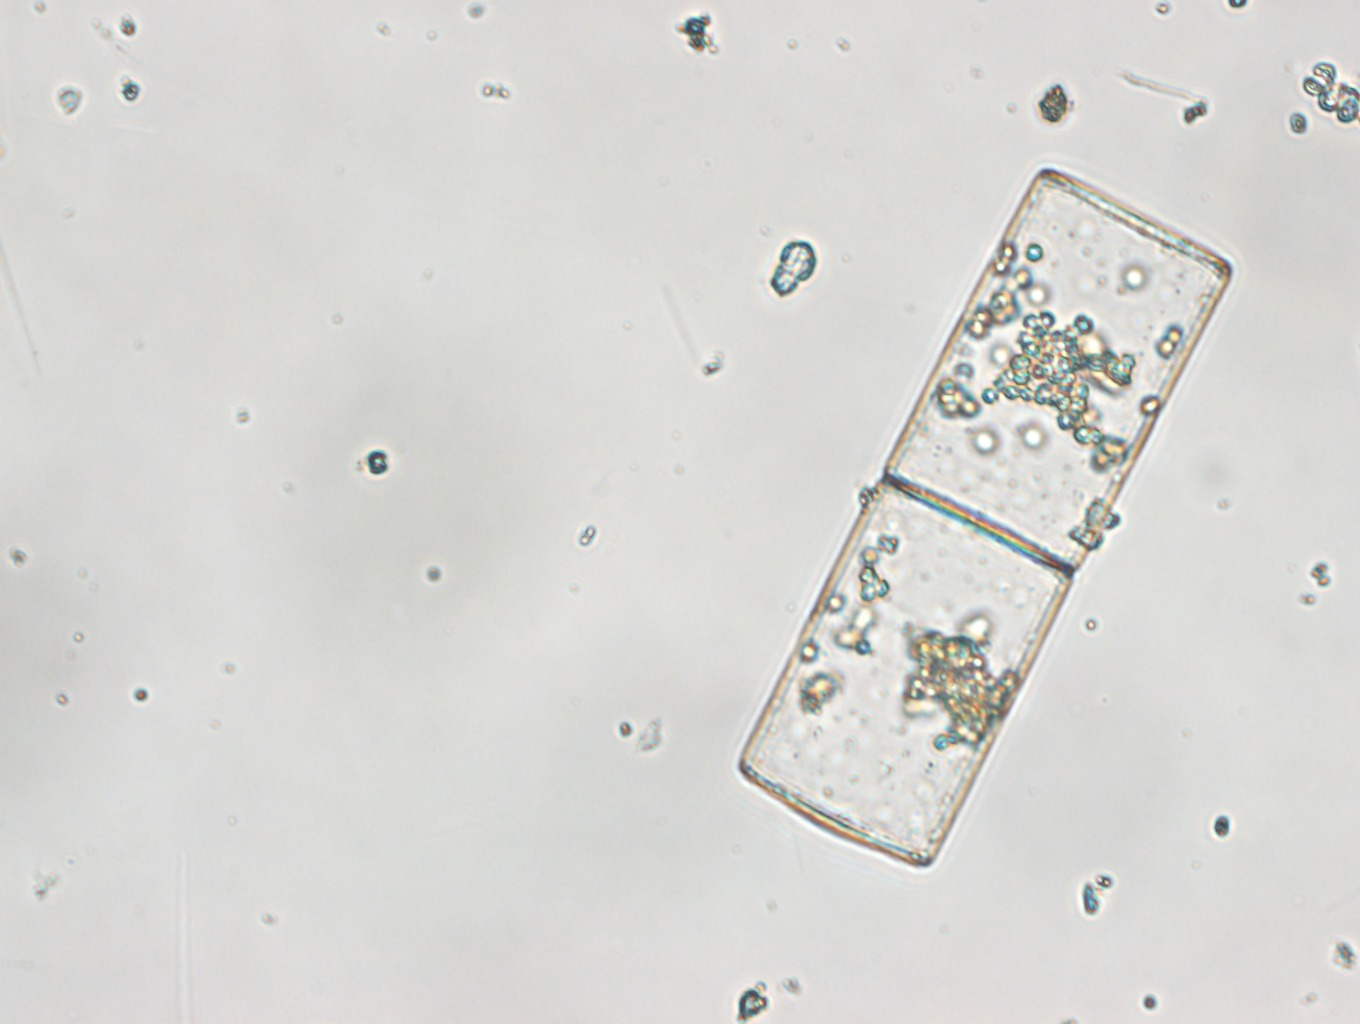guinardia flaccida: (725, 163, 1230, 868)
